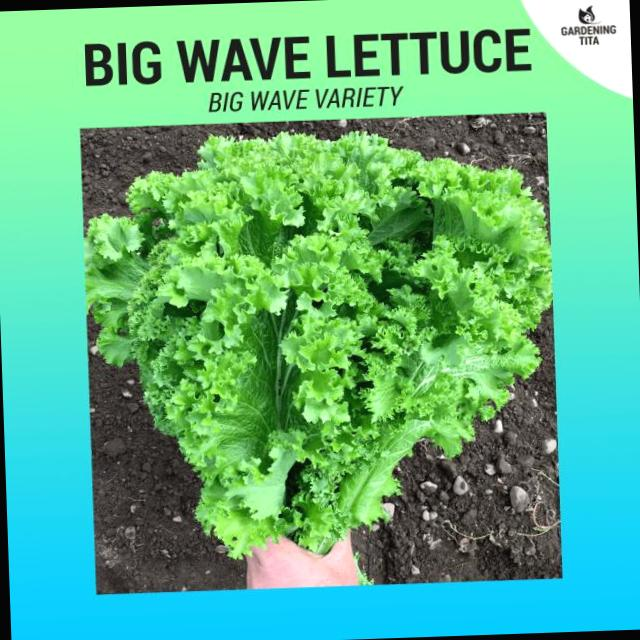Lettuce-Ready-to-Harvest: (87, 134, 549, 556)
